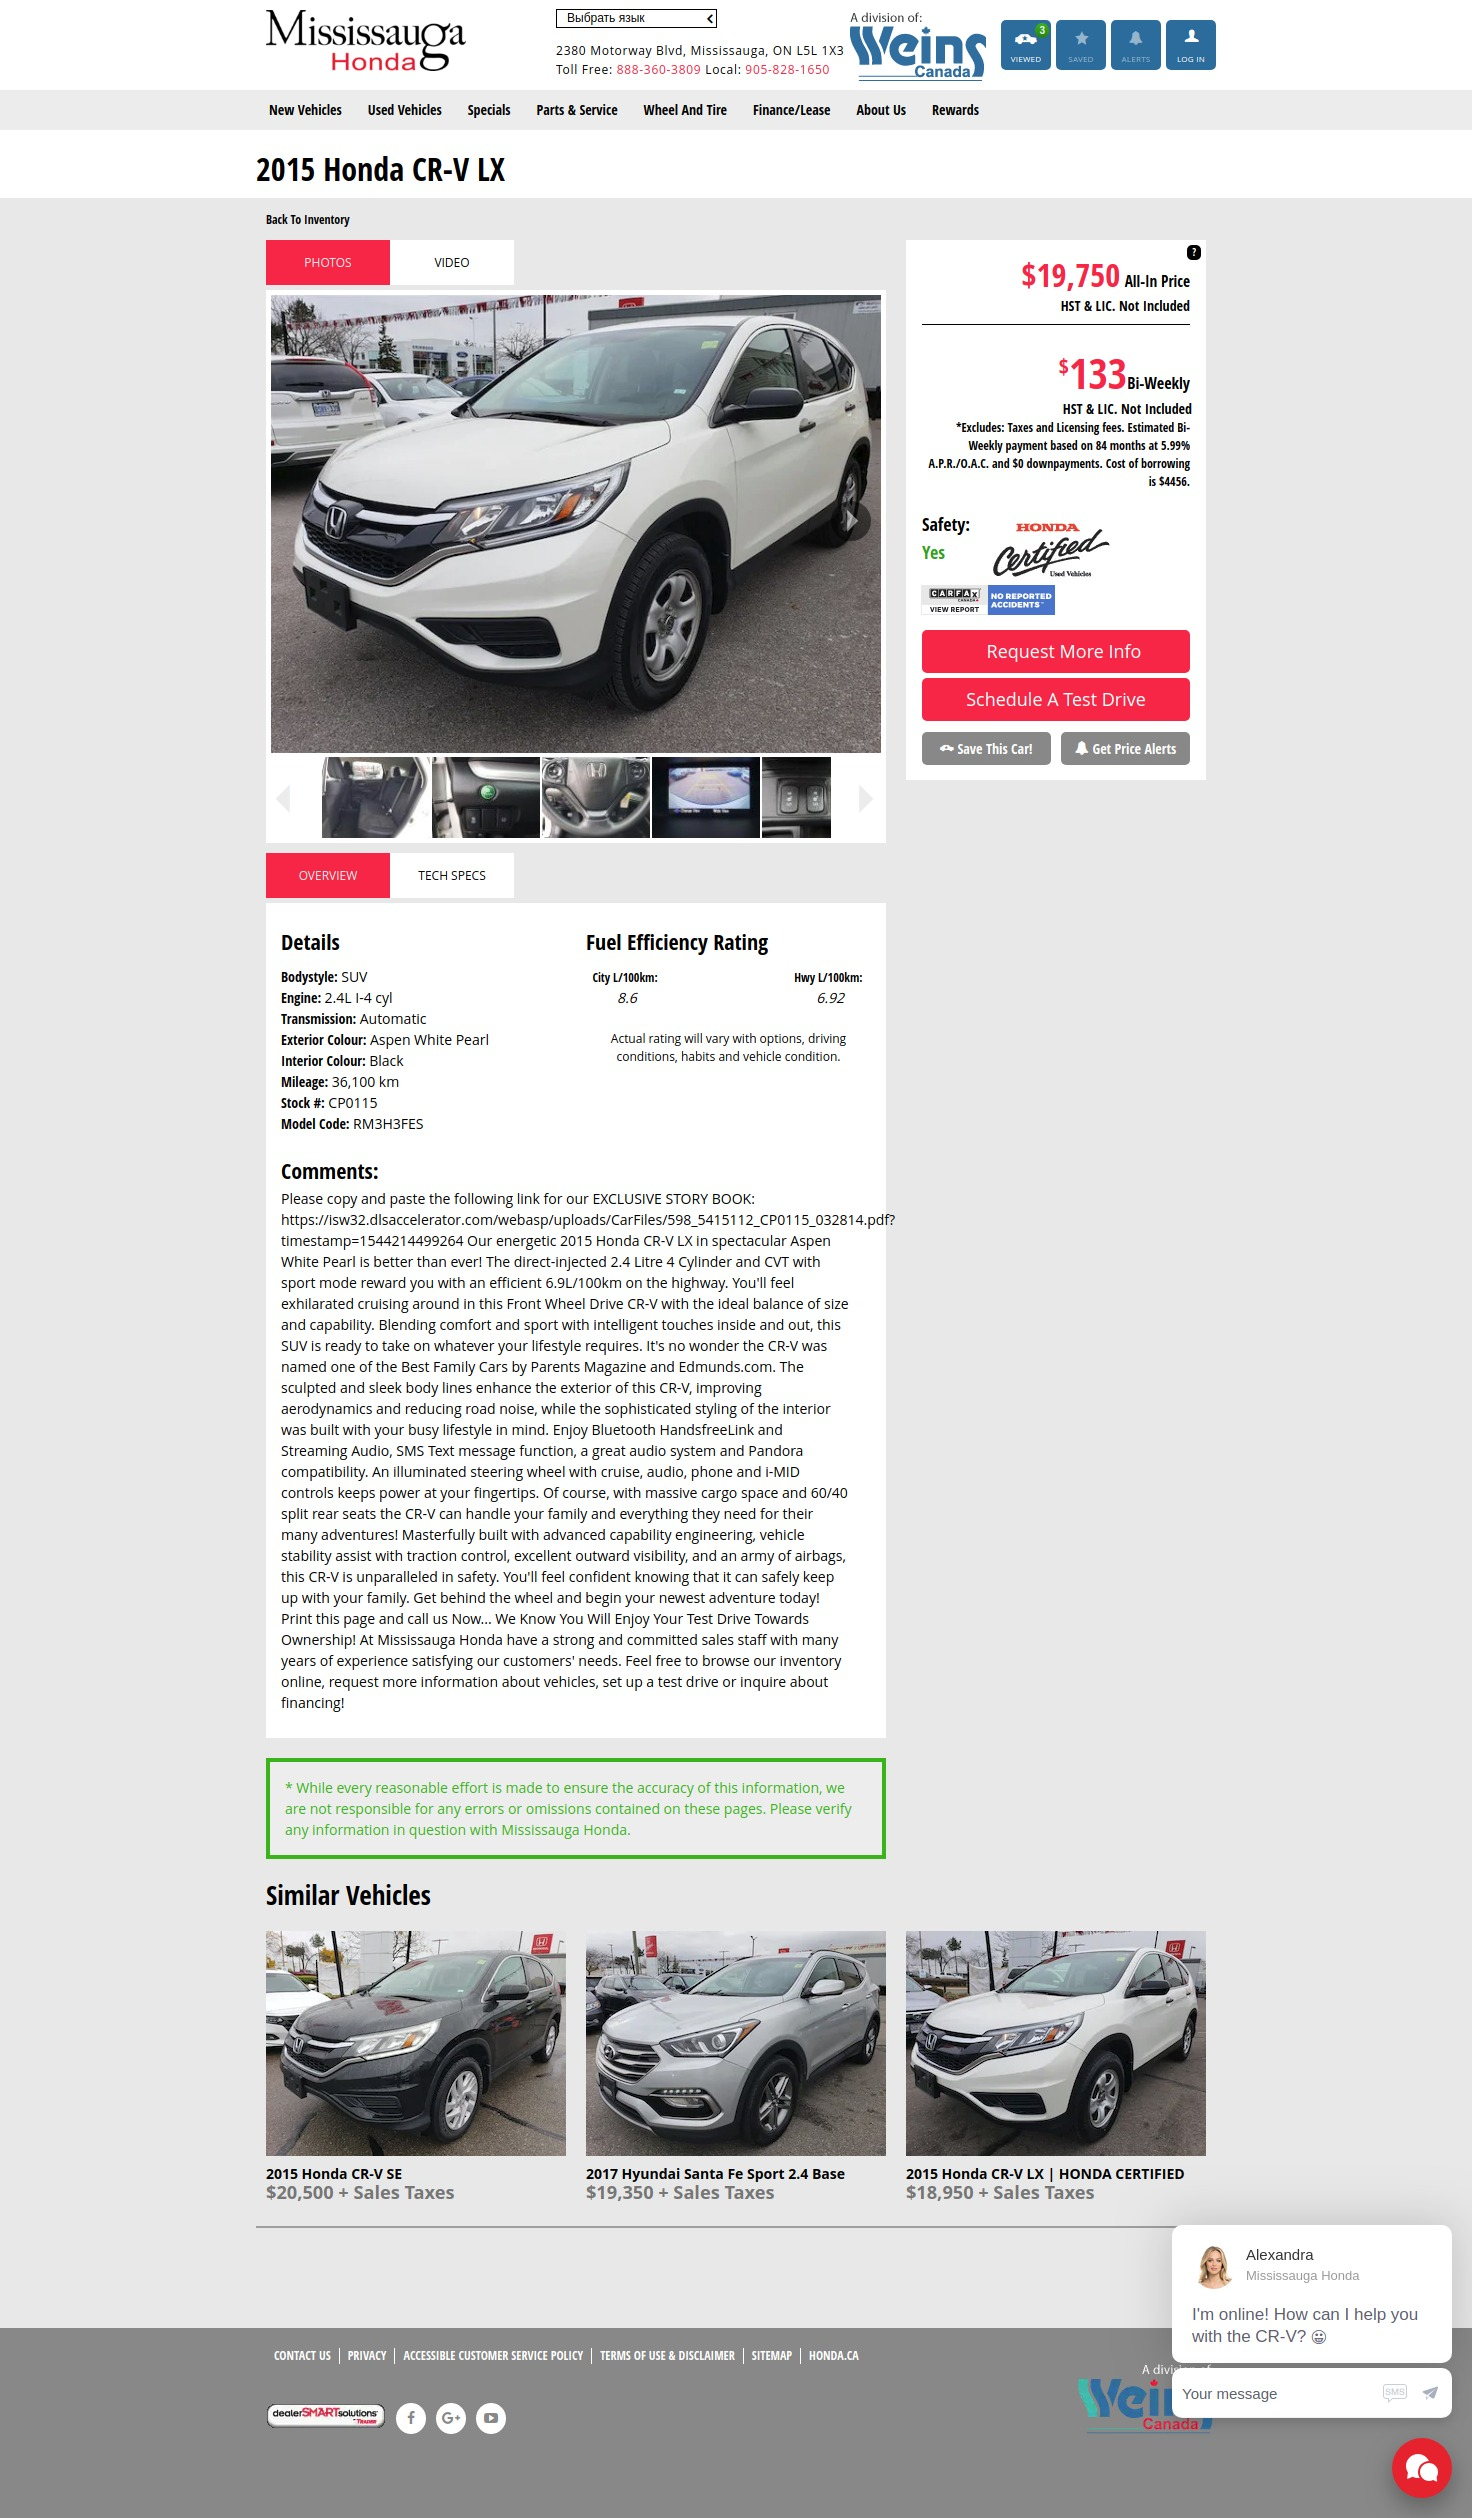car: (859, 785, 874, 815)
